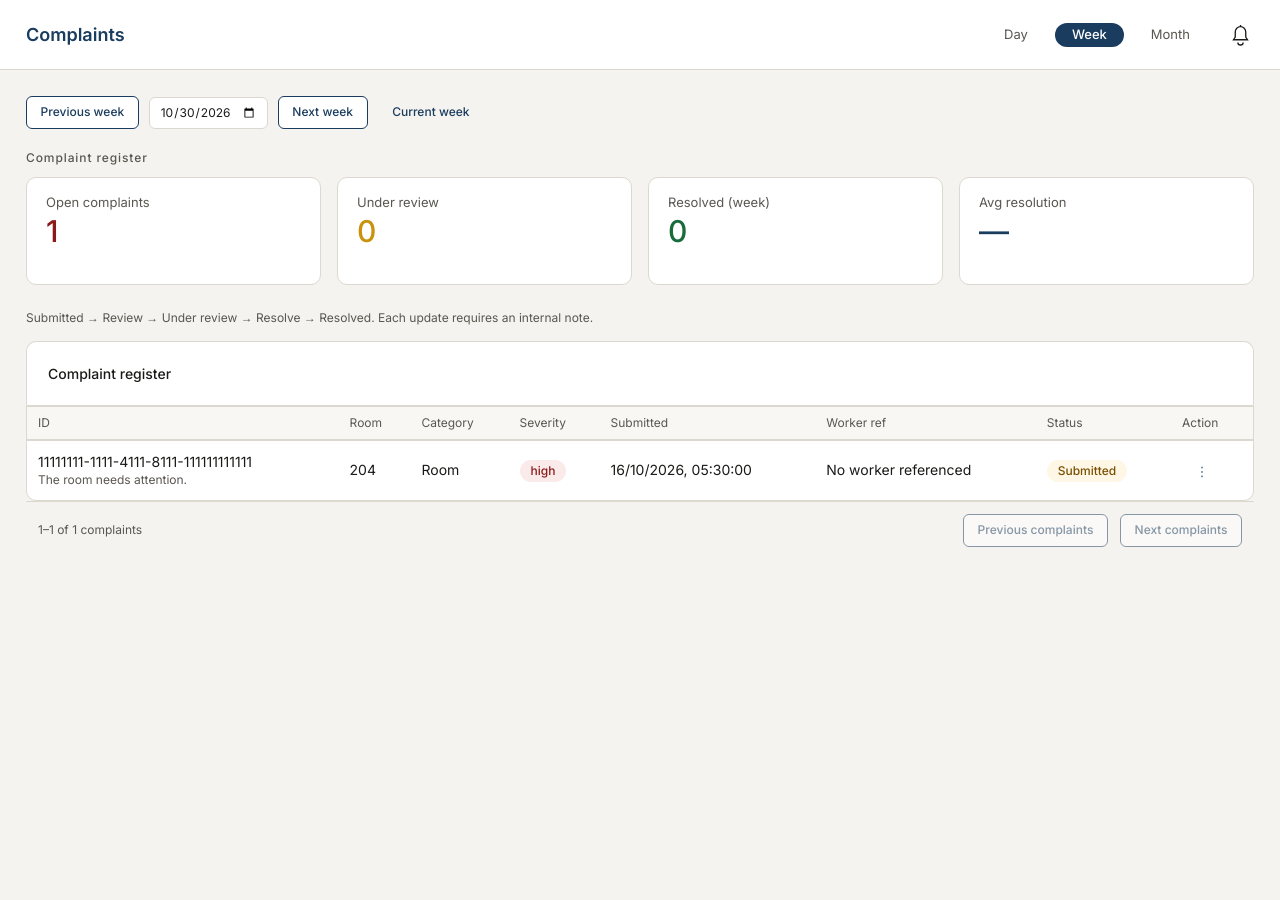
Scenario: DDP-022 complaint register › TC-MAD-022-AC2: saves the current version, refreshes detail/register and announces count invalidation
Click the button "⋮". click: (1202, 472)
box: x1=1182 y1=465 x2=1222 y2=478
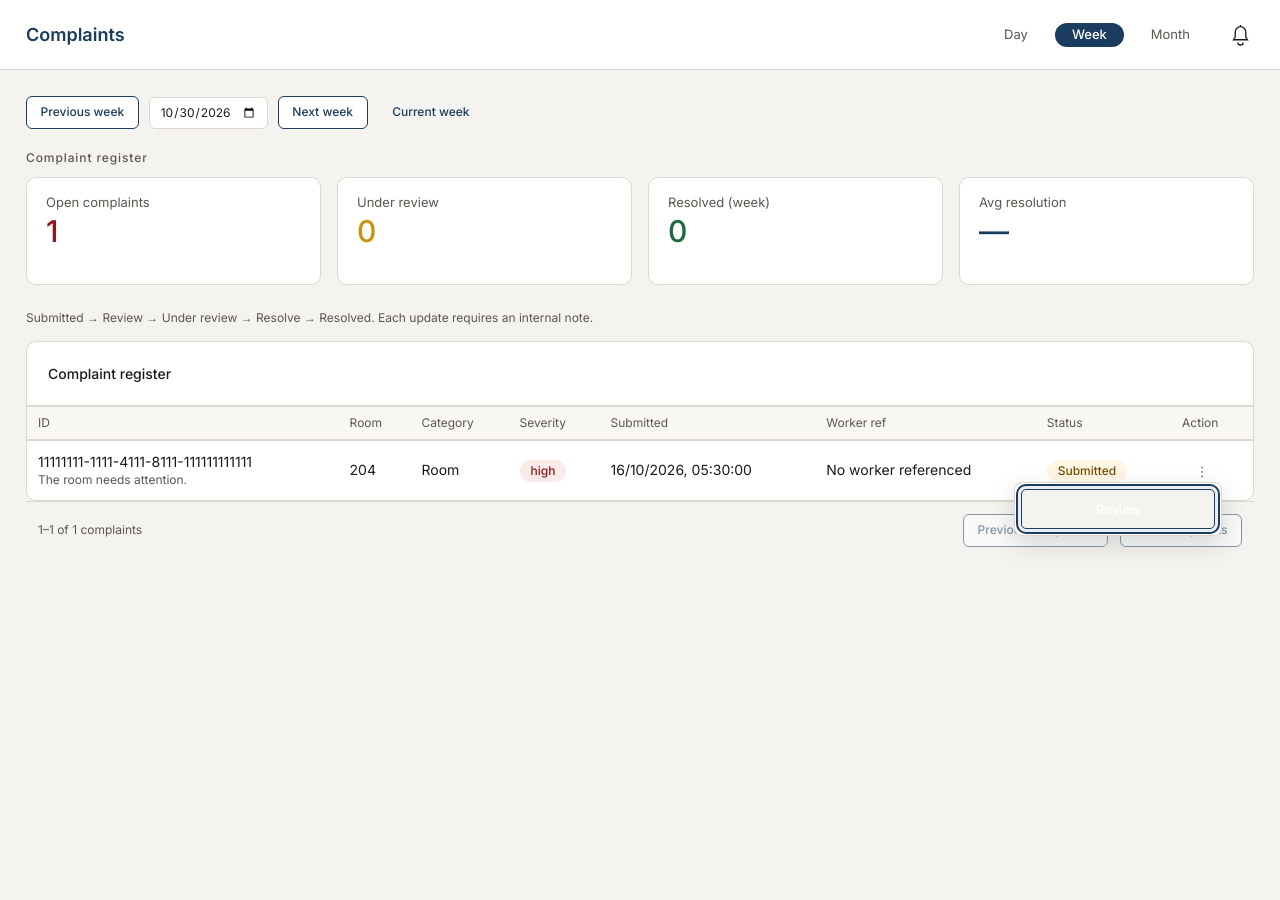
Click the button "Review". click: (1118, 509)
box: x1=1021 y1=489 x2=1215 y2=529
(page scrolled)
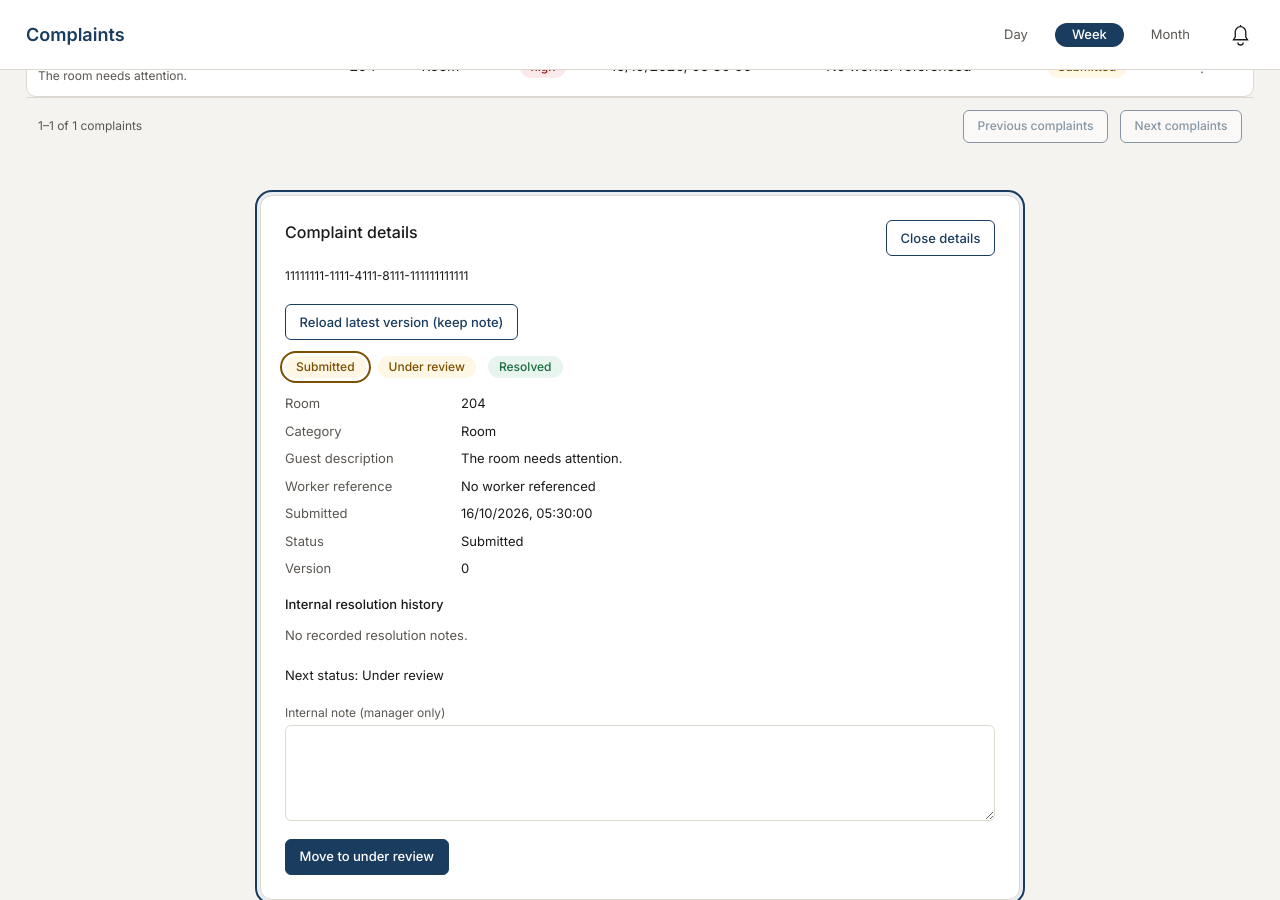
Check: the text box labelled "Internal note (manager only)" is shown
Type "Investigating privately" into the text box labelled "Internal note (manager only)". click: (640, 773)
box: x1=285 y1=725 x2=995 y2=821
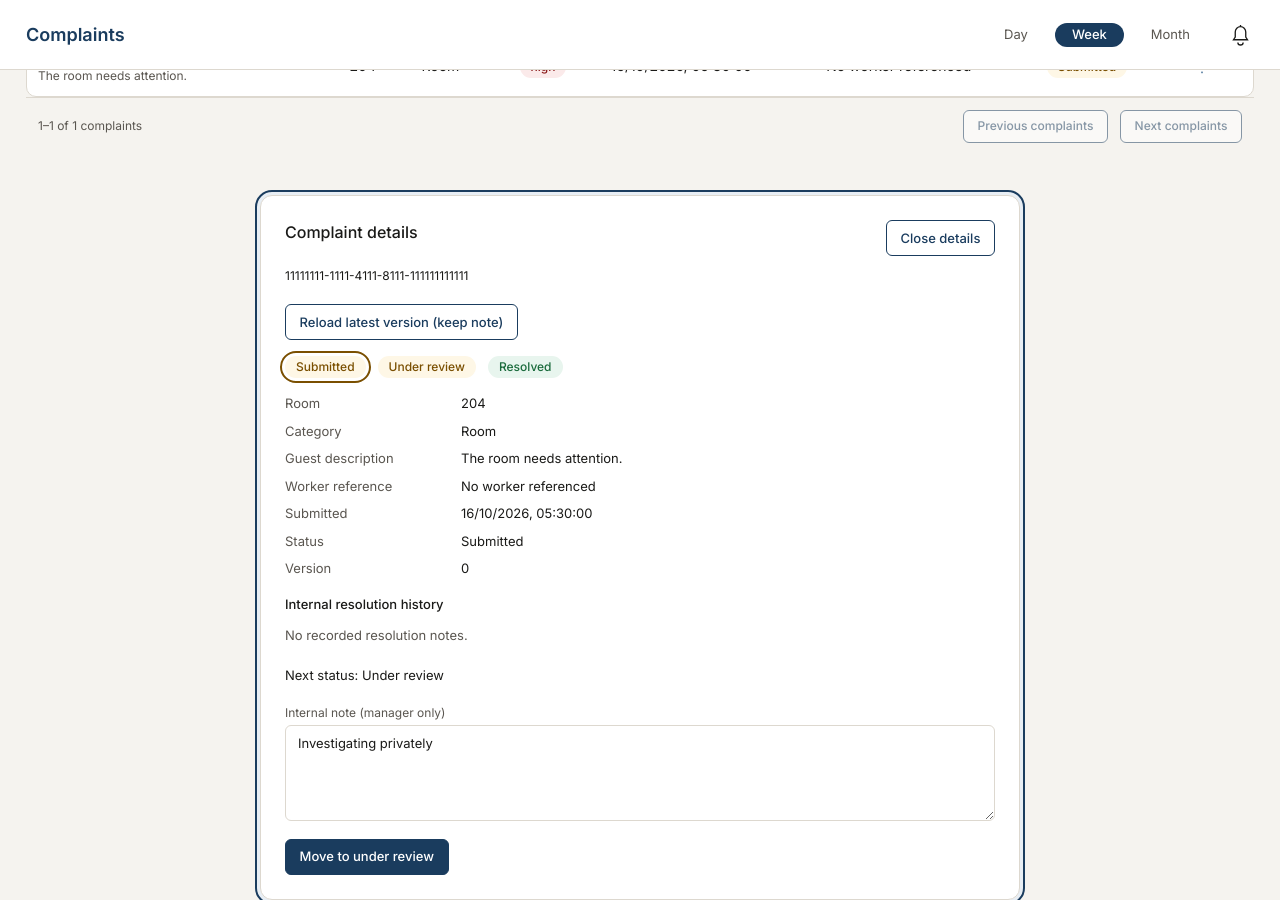
Click the button "Move to under review". click: (367, 856)
box: x1=285 y1=838 x2=448 y2=874
(page scrolled)
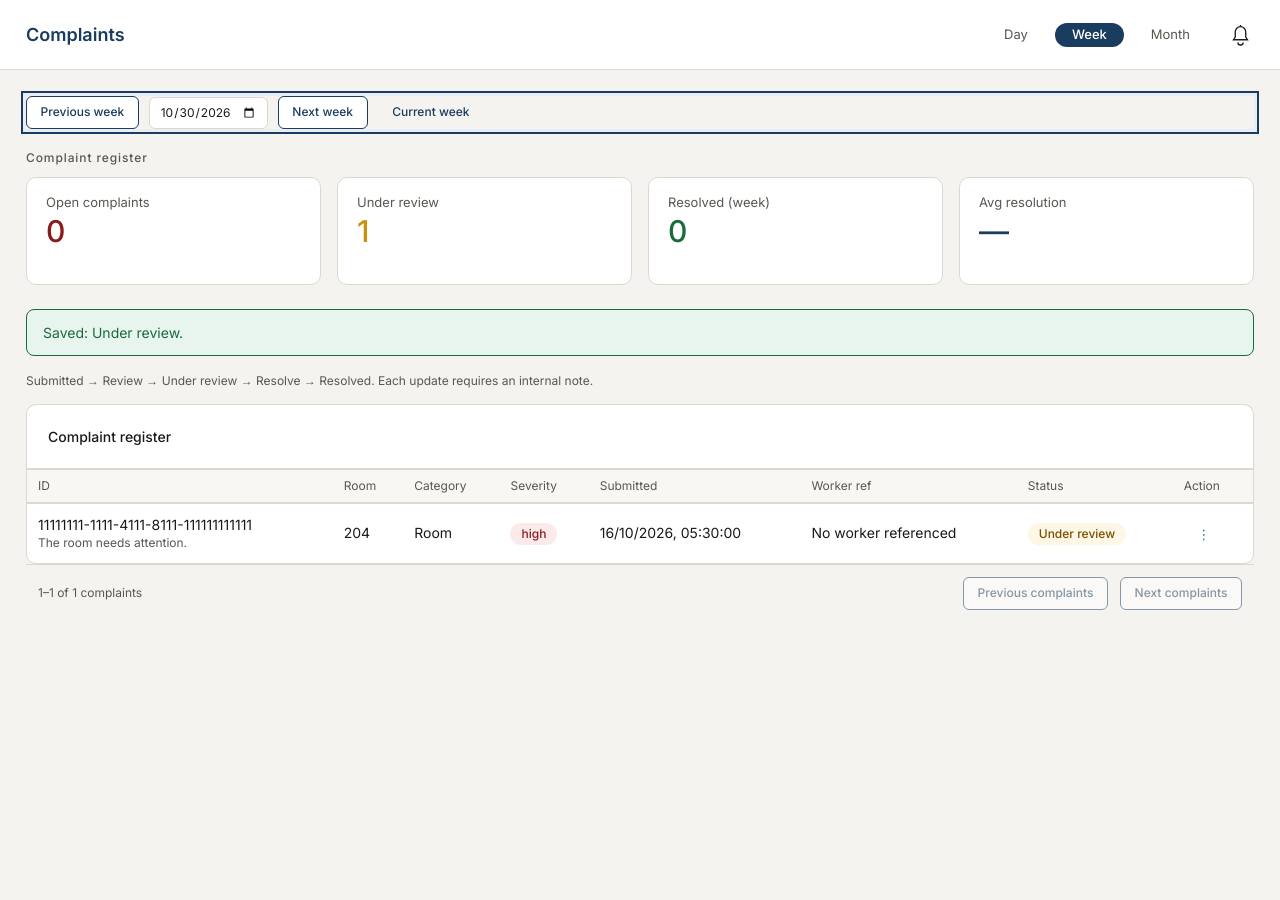
Check: the text "Saved: Under review." is shown, box x1=26 y1=309 x2=1254 y2=356
Check: the heading "Complaint details" is gone
Check: the text "Under review" in the row of "11111111-1111-4111-8111-111111111111" is shown, box x1=1039 y1=526 x2=1115 y2=541
